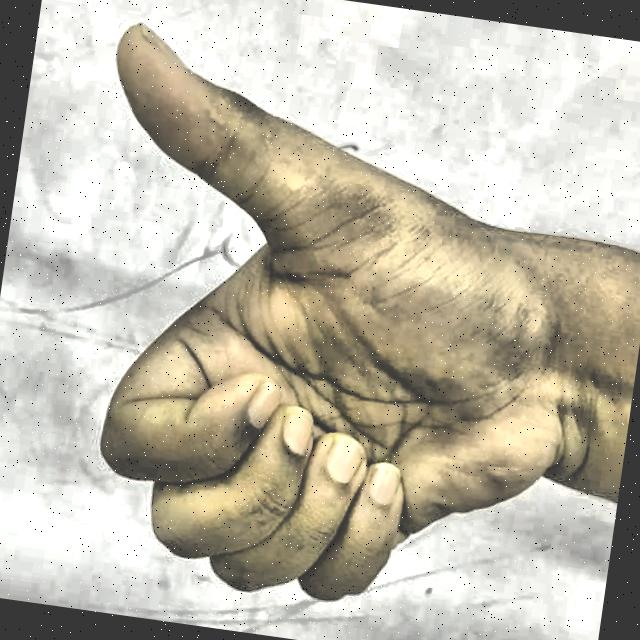Do: (21, 4, 611, 640)
